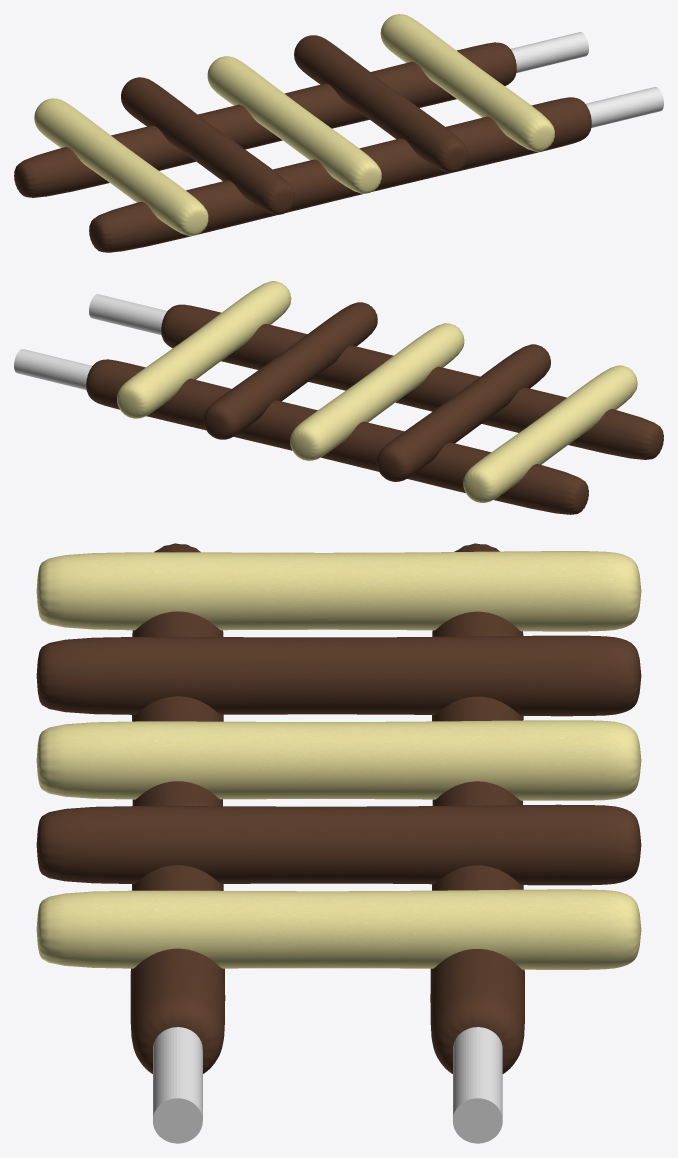
Rendered from rebrik.fbx.
The picture shows the model from 3 angles, top to bottom: view 1: azimuth 30°, elevation 25°; view 2: azimuth 150°, elevation 25°; view 3: azimuth 270°, elevation 25°; orthographic projection. The views are drawn at different scales.
Parts seen in each view (by area): view 1: Cylinder, Cylinder.004, Cylinder.003, Cylinder.008, Cylinder.005, Cylinder.007, Cylinder.006, Cylinder.001, Cylinder.002; view 2: Cylinder.004, Cylinder, Cylinder.008, Cylinder.003, Cylinder.005, Cylinder.007, Cylinder.006, Cylinder.001, Cylinder.002; view 3: Cylinder.003, Cylinder.007, Cylinder.008, Cylinder.005, Cylinder.006, Cylinder, Cylinder.004, Cylinder.001, Cylinder.002.
Boxes of the visible parts, bbox=[...] form: Cylinder: bbox=[89, 97, 591, 252]; Cylinder.004: bbox=[14, 42, 516, 197]; Cylinder.003: bbox=[207, 56, 381, 193]; Cylinder.008: bbox=[34, 98, 208, 235]; Cylinder.005: bbox=[294, 35, 468, 172]; Cylinder.007: bbox=[121, 77, 294, 214]; Cylinder.006: bbox=[380, 14, 554, 151]; Cylinder.001: bbox=[586, 87, 663, 127]; Cylinder.002: bbox=[511, 32, 588, 72]; Cylinder.004: bbox=[86, 359, 588, 514]; Cylinder: bbox=[161, 304, 663, 459]; Cylinder.008: bbox=[463, 365, 637, 502]; Cylinder.003: bbox=[290, 323, 464, 460]; Cylinder.005: bbox=[203, 302, 377, 439]; Cylinder.007: bbox=[376, 344, 550, 481]; Cylinder.006: bbox=[117, 281, 291, 418]; Cylinder.001: bbox=[89, 294, 167, 335]; Cylinder.002: bbox=[14, 349, 91, 389]; Cylinder.003: bbox=[36, 720, 641, 800]; Cylinder.007: bbox=[36, 635, 641, 716]; Cylinder.008: bbox=[36, 551, 641, 631]; Cylinder.005: bbox=[36, 804, 641, 885]; Cylinder.006: bbox=[36, 889, 641, 969]; Cylinder: bbox=[130, 543, 225, 1073]; Cylinder.004: bbox=[430, 543, 524, 1073]; Cylinder.001: bbox=[153, 1027, 202, 1143]; Cylinder.002: bbox=[453, 1027, 502, 1143].
Bounding box in the file's own units: 261 × 27.61 × 121.
Materials: 7 (5 with a texture image).
